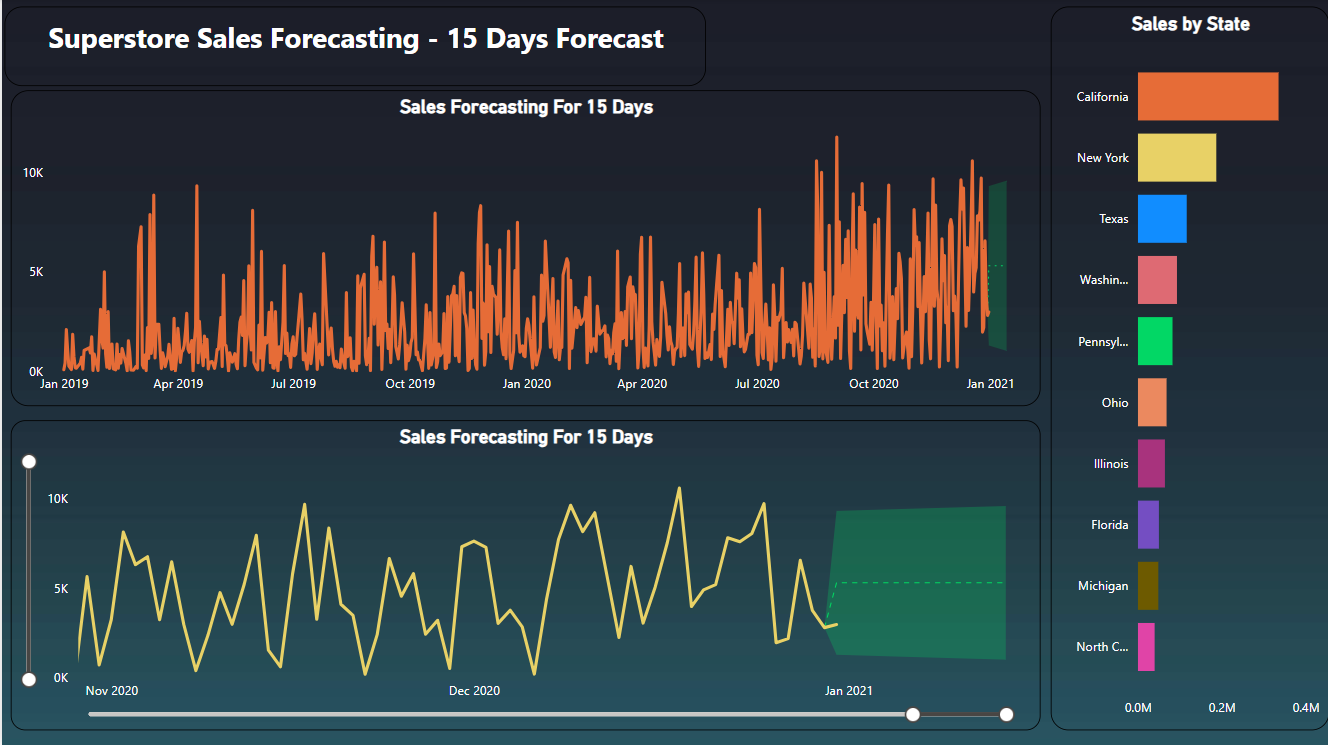

This screenshot's page, from the dashboard's own definition file:
{"tool":"powerbi","page":{"name":"Page 2","canvas":[1280,720],"ordinal":1},"visuals":[{"type":"lineChart","title":"Sales Forecasting For 15 Days","fields":{"Y":["Sum(SuperStore_Sales_Dataset.Sales)"],"Category":["SuperStore_Sales_Dataset.Order Date"]},"box":[8.4,88,993.8,305.1],"z":0},{"type":"lineChart","title":"Sales Forecasting For 15 Days","fields":{"Y":["Sum(SuperStore_Sales_Dataset.Sales)"],"Category":["SuperStore_Sales_Dataset.Order Date"]},"box":[8.2,406.2,993.5,299.1],"z":1000},{"type":"textbox","box":[2.4,7.2,676.6,77.2],"z":2000},{"type":"barChart","title":"Sales by State","fields":{"Category":["SuperStore_Sales_Dataset.State"],"Y":["Sum(SuperStore_Sales_Dataset.Sales)"]},"box":[1011.3,6.9,269,698.5],"z":3000}]}

Visuals, with their boxes in screenshot pixels (x1, y1, x2, y2), scaled from the page's 1280x720 canvas onto the 1328x745 screenshot:
"Sales Forecasting For 15 Days" lineChart: bbox(9, 91, 1040, 407)
"Sales Forecasting For 15 Days" lineChart: bbox(9, 420, 1039, 730)
textbox: bbox(2, 7, 704, 87)
"Sales by State" barChart: bbox(1049, 7, 1327, 730)
